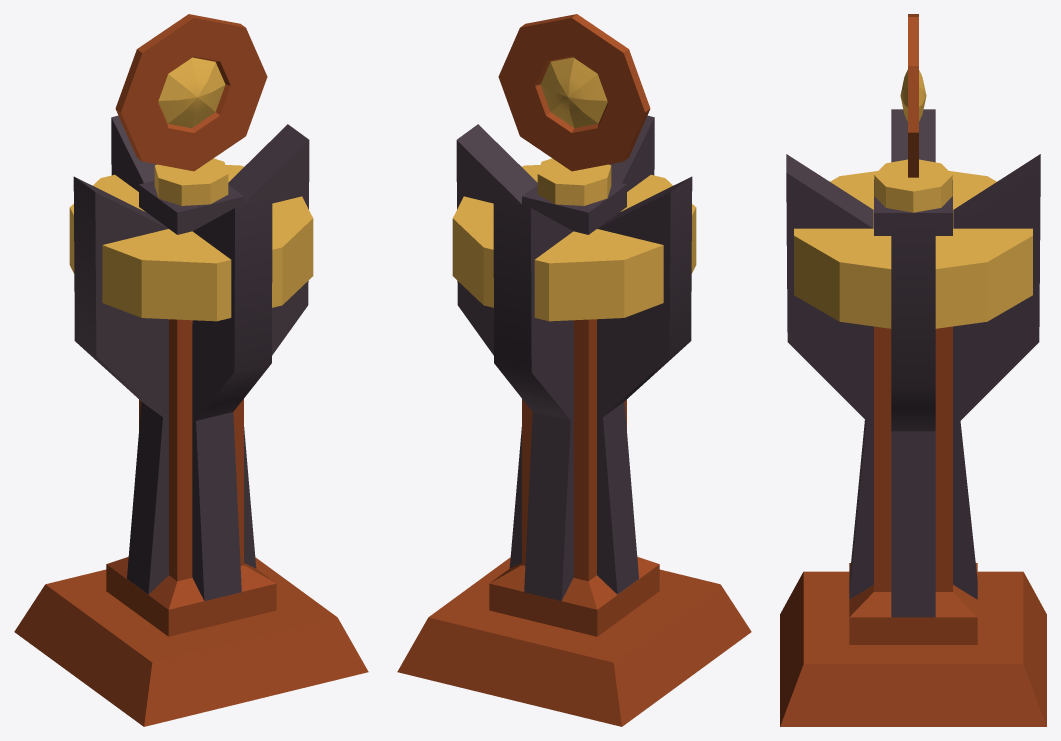
File: lazer.fbx
The picture shows the model from 3 angles, left to right: view 1: azimuth 30°, elevation 25°; view 2: azimuth 150°, elevation 25°; view 3: azimuth 270°, elevation 25°; orthographic projection. The views are drawn at different scales.
Parts seen in each view (by area): view 1: pCube10; view 2: pCube10; view 3: pCube10.
Boxes of the visible parts, <box> form: pCube10: <box>14,14,368,726</box>; pCube10: <box>397,14,751,726</box>; pCube10: <box>780,14,1046,726</box>.
Size of the model in its own units: 142 by 385 by 142.
